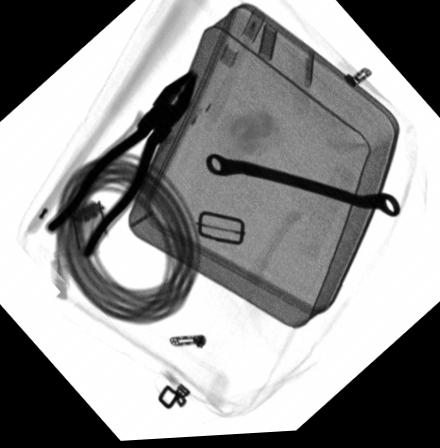Pliers: (42, 71, 199, 264)
Wrench: (201, 153, 401, 224)
